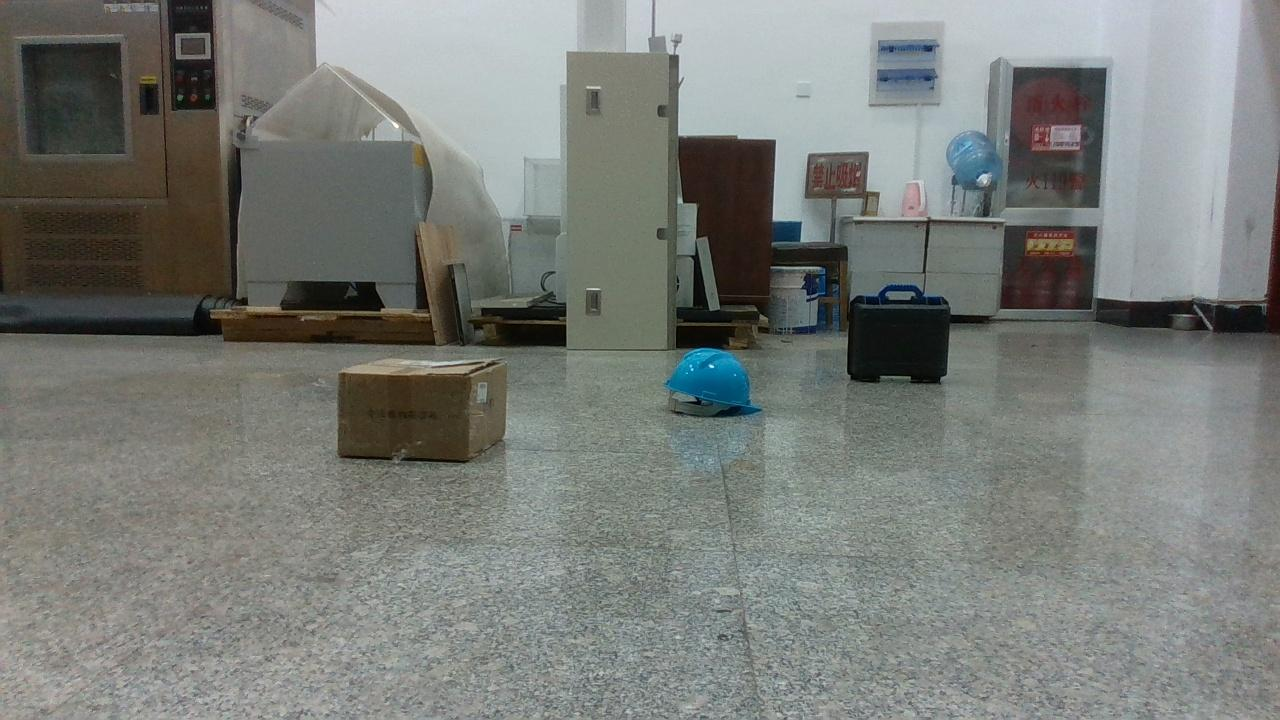box: (339, 360, 508, 461)
safehat: (848, 282, 950, 382), (665, 348, 760, 418)
